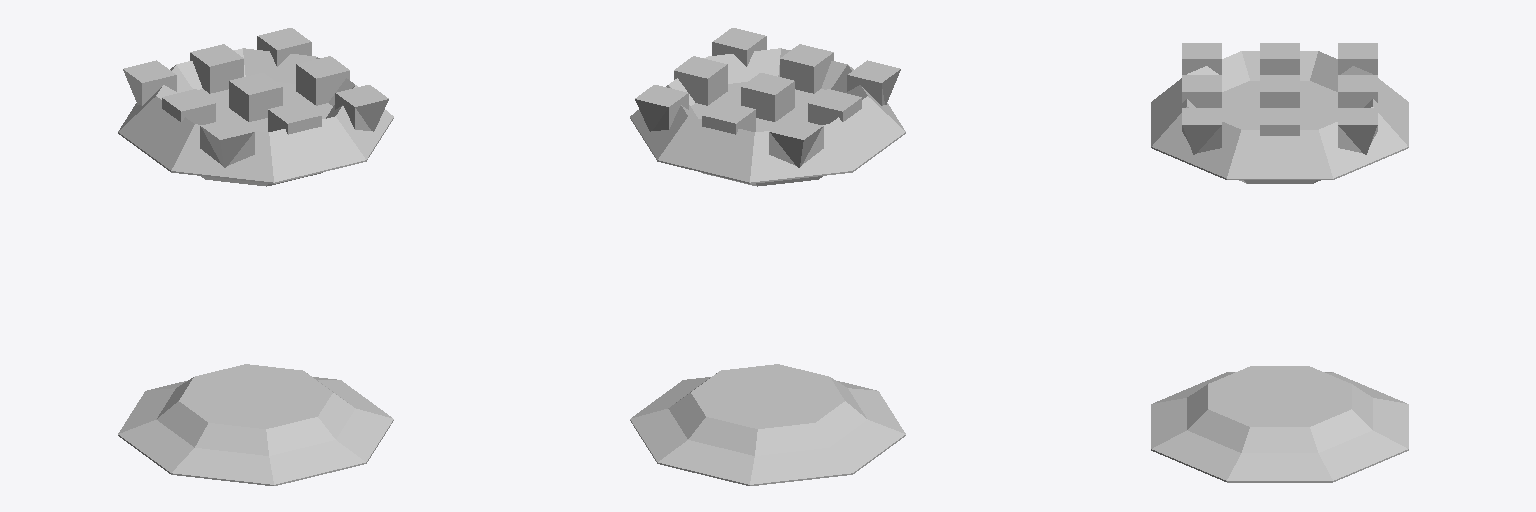
Rendered from teleporter.obj.
3 views of the same model, side by side, from view 1: azimuth 30°, elevation 25°; view 2: azimuth 150°, elevation 25°; view 3: azimuth 270°, elevation 25° (orthographic).
Visible parts, largest first — view 1: Base, Top, TopNegxNegz, TopMidxMidz, TopPosxMidz, TopMidxPosz, TopPosxNegz, TopNegxPosz, TopNegxMidz, TopMidxNegz, TopPosxPosz; view 2: Base, Top, TopNegxPosz, TopMidxMidz, TopPosxMidz, TopMidxNegz, TopPosxPosz, TopNegxNegz, TopNegxMidz, TopMidxPosz, TopPosxNegz; view 3: Base, Top, TopPosxNegz, TopPosxPosz, TopMidxMidz, TopNegxMidz, TopMidxPosz, TopMidxNegz, TopPosxMidz, TopNegxNegz, TopNegxPosz.
Part boxes in pixels (x1,y1,x2,y2): Base: (118, 364, 393, 485); Top: (118, 48, 393, 186); TopNegxNegz: (200, 117, 254, 167); TopMidxMidz: (229, 73, 282, 121); TopPosxMidz: (296, 56, 349, 105); TopMidxPosz: (190, 44, 243, 93); TopPosxNegz: (335, 85, 388, 131); TopNegxPosz: (123, 60, 176, 105); TopNegxMidz: (162, 89, 215, 124); TopMidxNegz: (268, 101, 321, 134); TopPosxPosz: (257, 28, 311, 66); Base: (630, 364, 905, 485); Top: (630, 48, 905, 186); TopNegxPosz: (769, 117, 823, 167); TopMidxMidz: (741, 73, 794, 121); TopPosxMidz: (674, 56, 727, 105); TopMidxNegz: (780, 44, 833, 93); TopPosxPosz: (635, 85, 688, 131); TopNegxNegz: (847, 60, 900, 105); TopNegxMidz: (808, 89, 861, 124); TopMidxPosz: (702, 101, 755, 134); TopPosxNegz: (712, 28, 766, 66); Base: (1151, 366, 1408, 482); Top: (1151, 51, 1408, 183); TopPosxNegz: (1182, 108, 1221, 154); TopPosxPosz: (1338, 108, 1377, 154); TopMidxMidz: (1260, 75, 1299, 107); TopNegxMidz: (1260, 43, 1299, 74); TopMidxPosz: (1338, 75, 1377, 107); TopMidxNegz: (1182, 75, 1221, 107); TopPosxMidz: (1260, 108, 1299, 135); TopNegxNegz: (1182, 43, 1221, 74); TopNegxPosz: (1338, 43, 1377, 74).
Bounding box in the file's own units: 3.3 × 4.88 × 3.3.